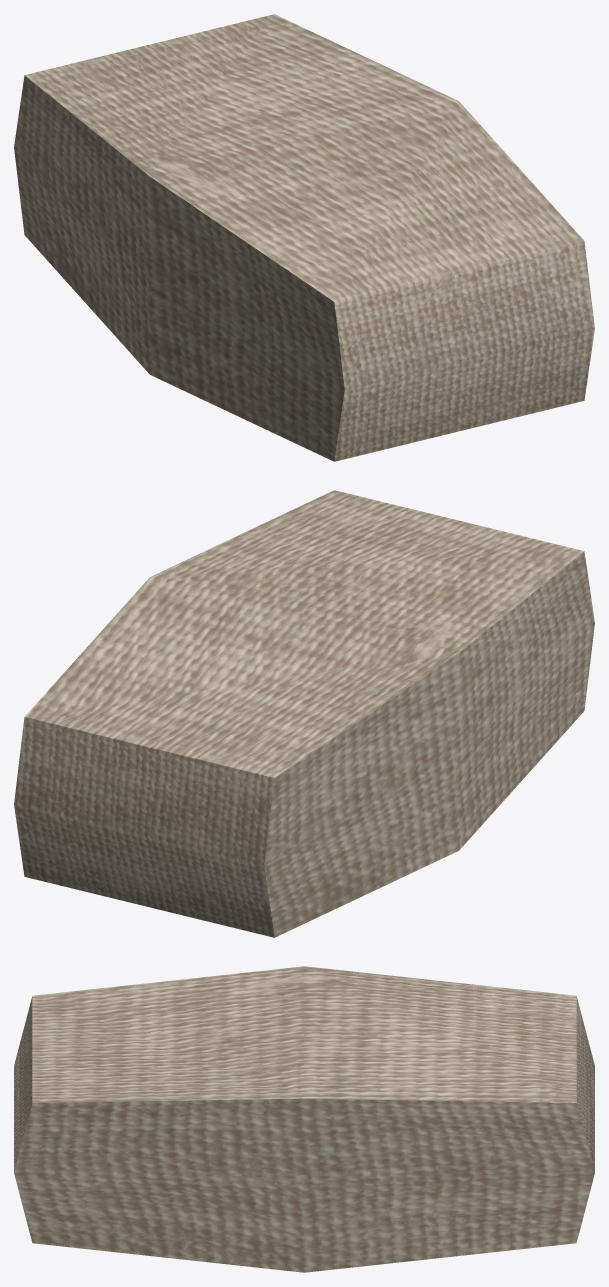
File: PROP_Single_Sandbag.fbx
3 views of the same model, one above another, from view 1: azimuth 30°, elevation 25°; view 2: azimuth 150°, elevation 25°; view 3: azimuth 270°, elevation 25° (orthographic). The views are drawn at different scales.
Parts seen in each view (by area): view 1: Sandbag11; view 2: Sandbag11; view 3: Sandbag11.
Part boxes in pixels (x1,y1,x2,y2): Sandbag11: [14, 14, 594, 461]; Sandbag11: [14, 490, 594, 937]; Sandbag11: [14, 966, 594, 1272].
Bounding box in the file's own units: 0.8362 × 0.5121 × 1.55.
Materials: 1 (1 with a texture image).
